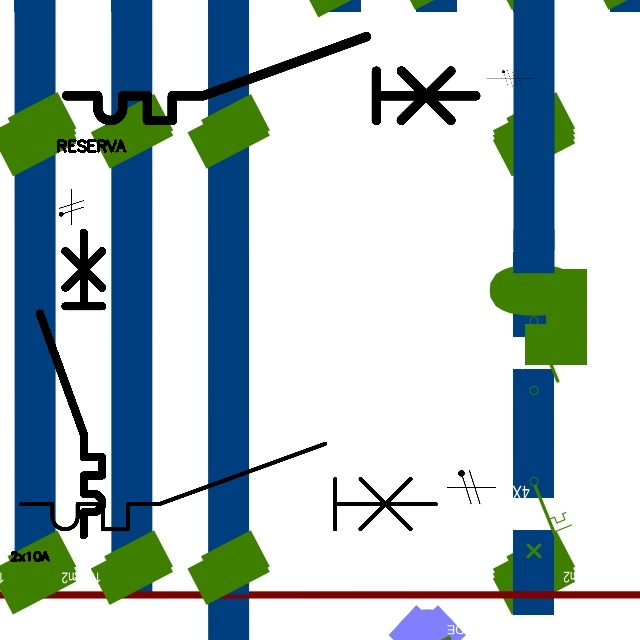interruptor_termomagnetico: (10, 433, 446, 540), (56, 26, 486, 131), (32, 224, 110, 542)
